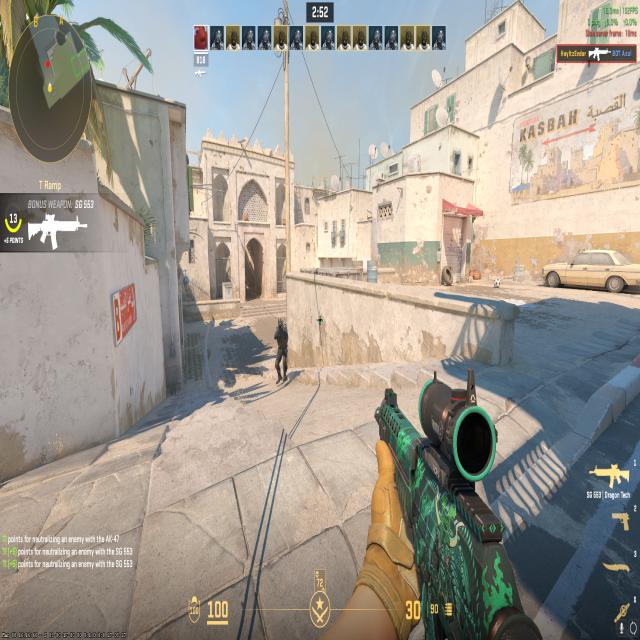ct: (271, 310, 291, 386)
